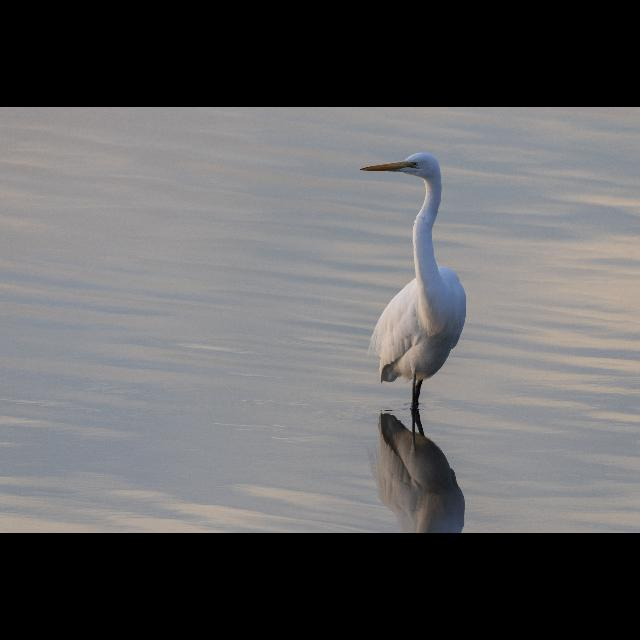egret: (358, 151, 468, 413)
